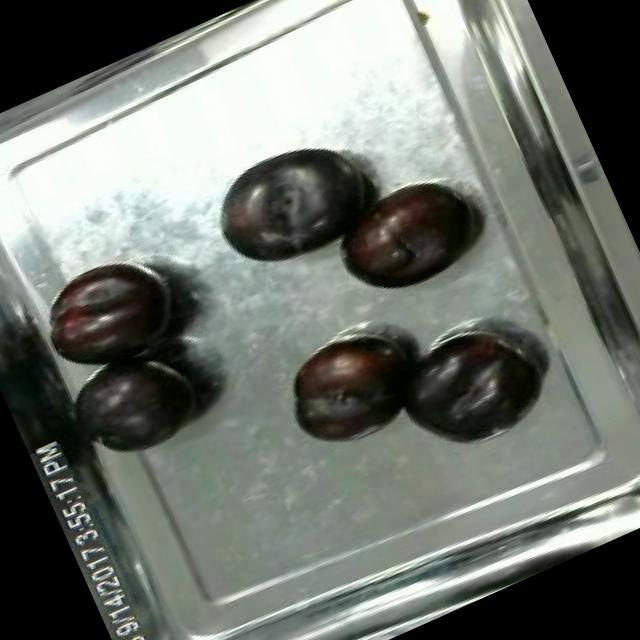Fruit: (196, 120, 393, 290), (381, 314, 553, 467), (322, 160, 490, 310), (25, 241, 192, 391), (271, 314, 435, 462), (62, 334, 216, 474)
